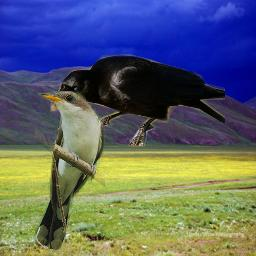Crow: (49, 54, 225, 147)
Cuckoo: (35, 91, 105, 250)
